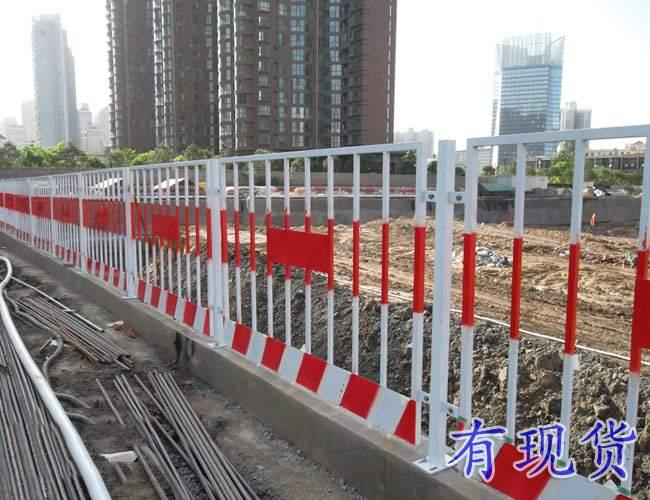sign: (141, 126, 650, 478)
